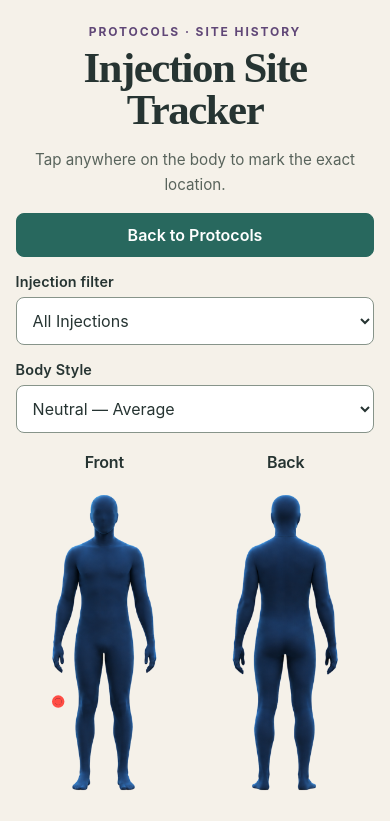
it: persists body-style selection through its owner without moving saved coordinates
This screenshot has width=390, height=821.
Select "Feminine — Fuller" in the dropdown labelled "Body Style" at (195, 409), box x1=16 y1=385 x2=374 y2=433
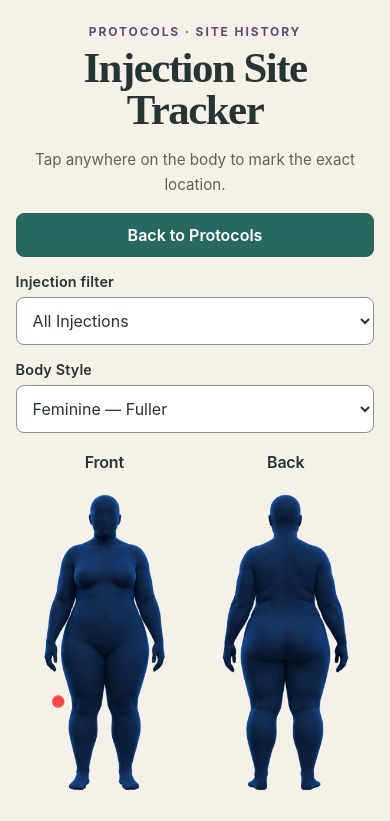
Result: the picture with alt text "Feminine — Fuller, front view" is shown at x1=16 y1=480 x2=193 y2=805
